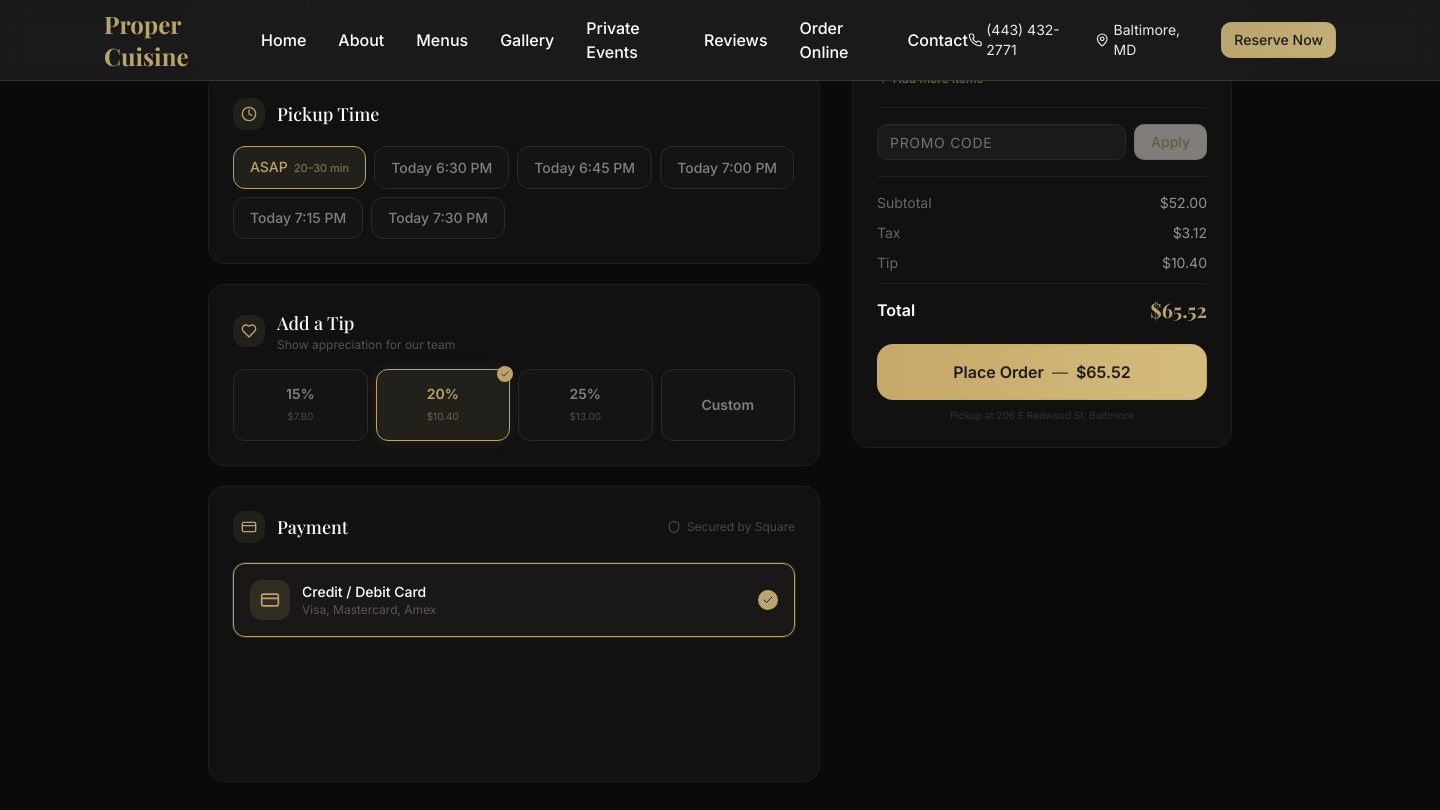
Test: OrderCheckout - Tip Section › shows custom tip input when Custom is clicked
The width and height of the screenshot is (1440, 810).
(page scrolled)
Click the button "Custom" at (728, 405), box 660,369 -> 795,441
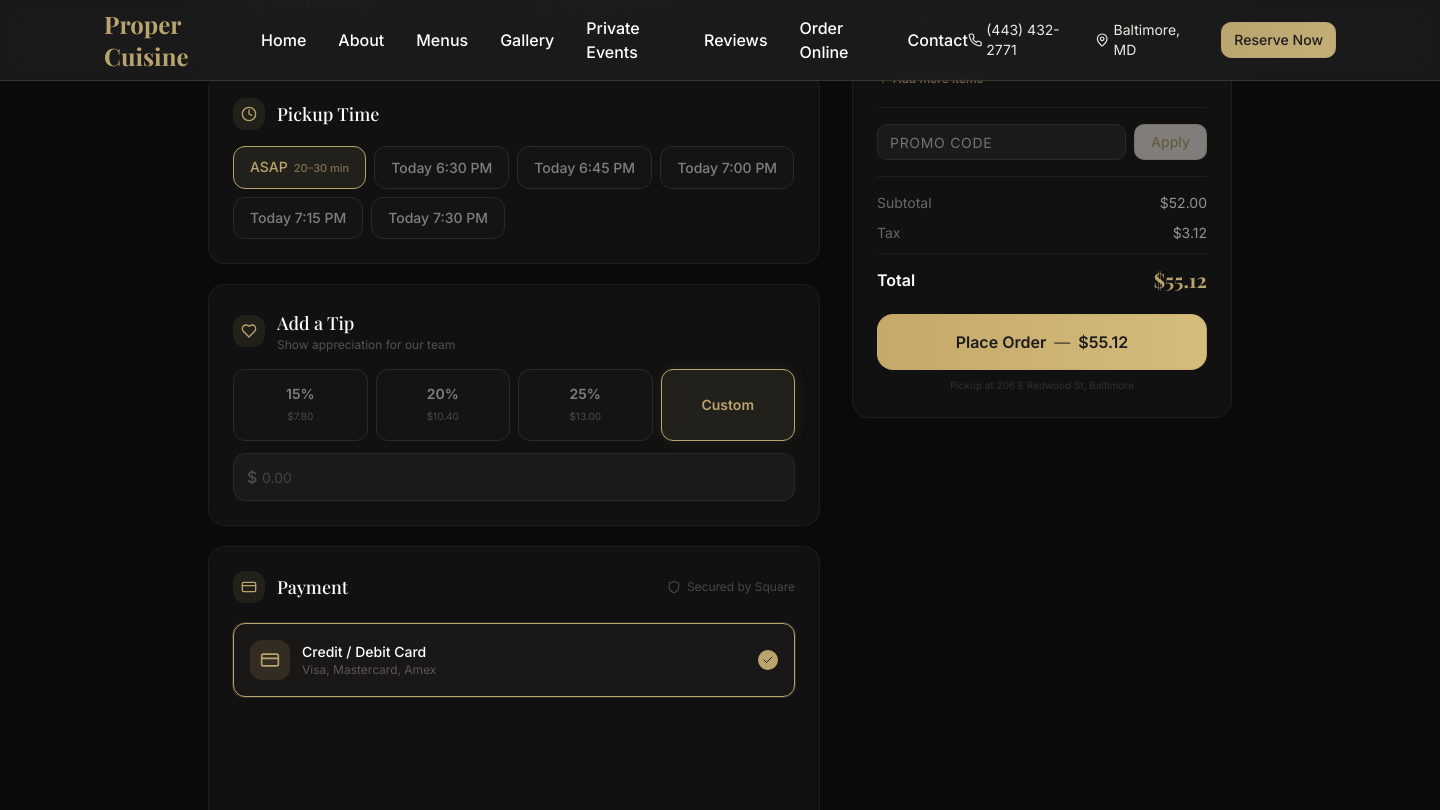
Expected: the number field with placeholder "0.00" is shown, 233,453 -> 795,501
